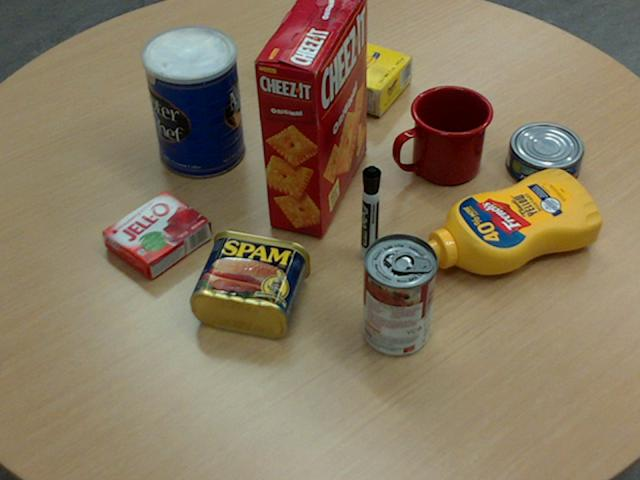cracker_box: (253, 0, 368, 237)
gelatin_box: (101, 189, 210, 278)
large_marker: (361, 166, 380, 260)
master_chef_can: (141, 25, 244, 178)
mug: (393, 84, 493, 185)
mustard_bottle: (416, 168, 600, 275)
potted_meat_can: (189, 229, 309, 337)
sugar_box: (259, 20, 412, 116)
tomato_soup_can: (362, 232, 437, 356)
tuna_fish_can: (505, 122, 582, 189)
